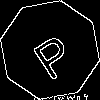P: (25, 25, 78, 82)
